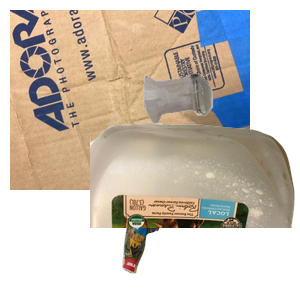cardboard: (10, 10, 250, 190)
glass: (141, 71, 300, 187)
plastic: (90, 120, 300, 300)
trash: (120, 131, 290, 300)
